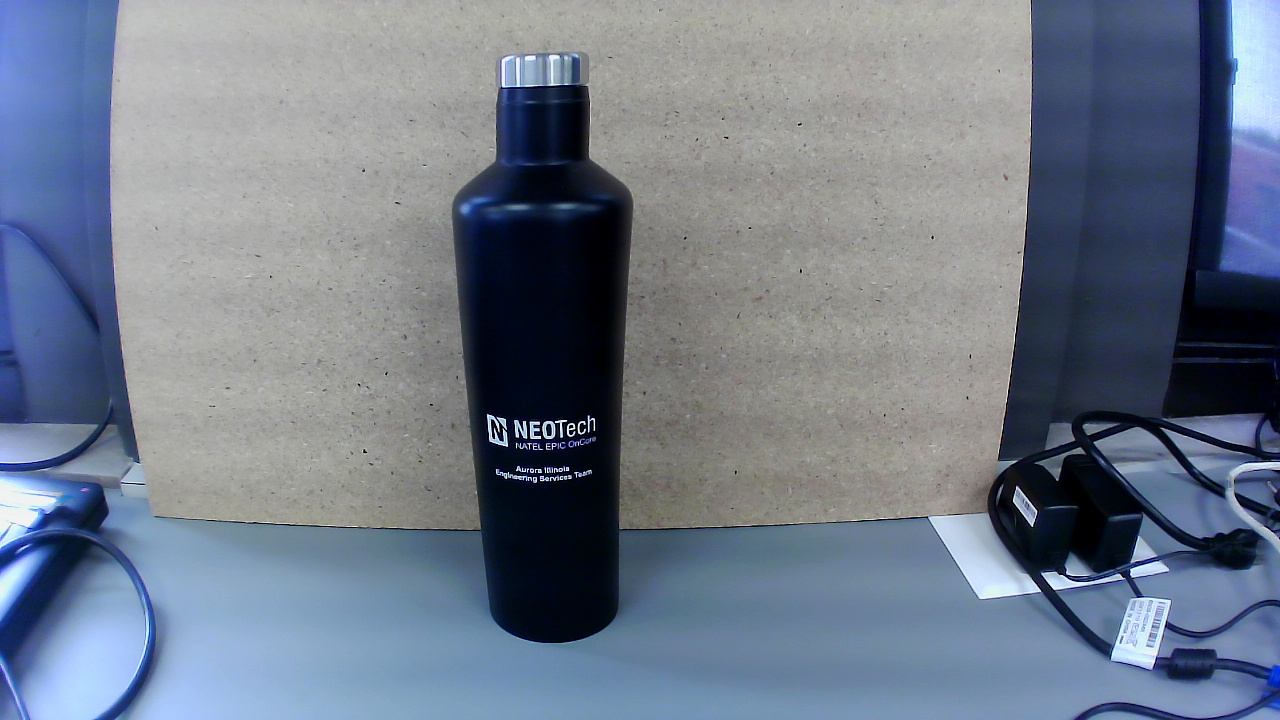neobottle: (447, 45, 644, 647)
